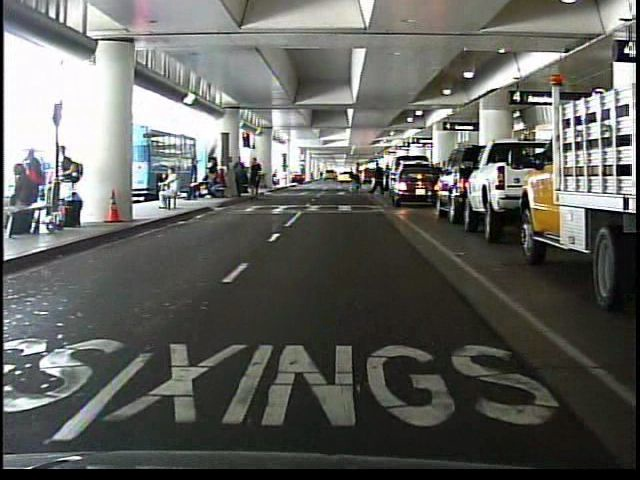person: (153, 168, 183, 214), (369, 158, 388, 201), (186, 156, 202, 204), (346, 160, 367, 196)
